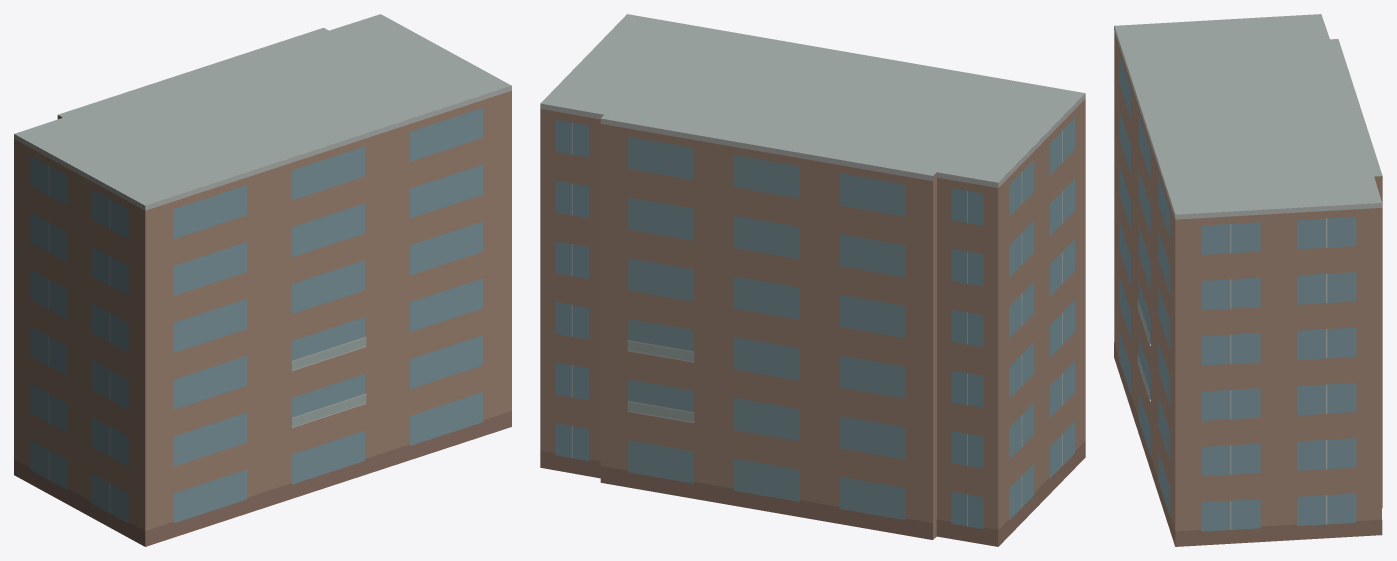
Rendered from survey-upis-33032107.glb.
3 views of the same model, side by side, from view 1: azimuth 30°, elevation 25°; view 2: azimuth 150°, elevation 25°; view 3: azimuth 270°, elevation 25° (orthographic). The views are drawn at different scales.
Visible parts, largest first — view 1: survey-upis-33032107.tmp; view 2: survey-upis-33032107.tmp; view 3: survey-upis-33032107.tmp.
Boxes of the visible parts, x1=… form: survey-upis-33032107.tmp: x1=14, y1=14, x2=511, y2=546; survey-upis-33032107.tmp: x1=540, y1=14, x2=1085, y2=546; survey-upis-33032107.tmp: x1=1114, y1=14, x2=1382, y2=546.
Size of the model in its own units: 21.67 by 16.7 by 12.25.
